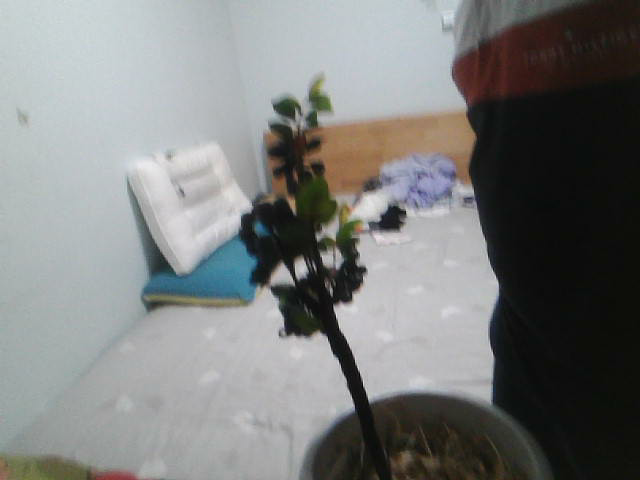blueberry: (334, 268, 365, 301)
